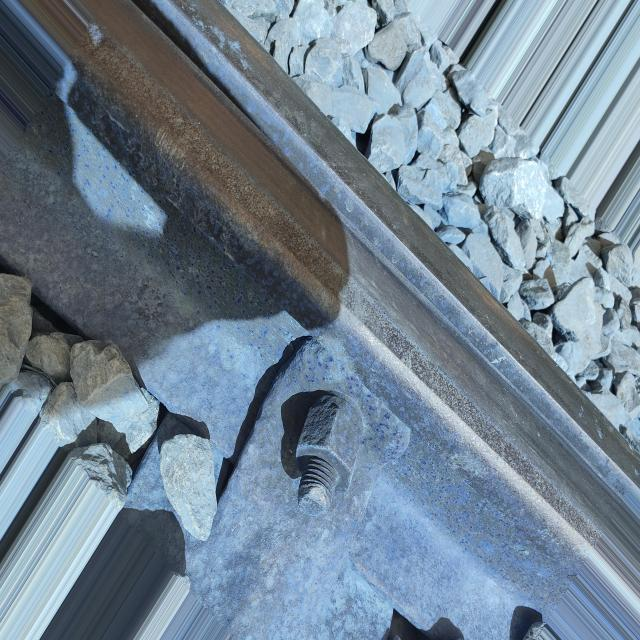non-defective: (3, 2, 637, 638)
